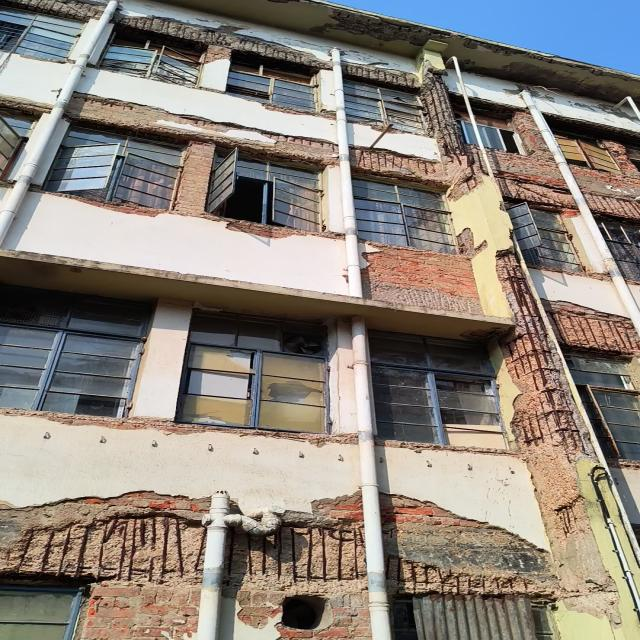spalling: (496, 246, 639, 559), (80, 142, 338, 239), (308, 0, 604, 74), (63, 94, 338, 170), (0, 500, 205, 584), (110, 9, 331, 70), (0, 409, 353, 447), (383, 522, 556, 597), (225, 521, 365, 594), (420, 65, 482, 201), (362, 245, 484, 314), (85, 580, 208, 640), (466, 62, 639, 102), (555, 131, 639, 199), (496, 113, 566, 189), (272, 590, 376, 640), (419, 60, 466, 161), (351, 146, 451, 191), (381, 495, 486, 528), (496, 171, 577, 212), (222, 588, 284, 630), (343, 60, 418, 94), (0, 0, 106, 22), (584, 192, 639, 224), (261, 103, 335, 120), (112, 492, 183, 509), (313, 498, 361, 522), (0, 94, 49, 117), (456, 227, 486, 258), (386, 442, 442, 451)
